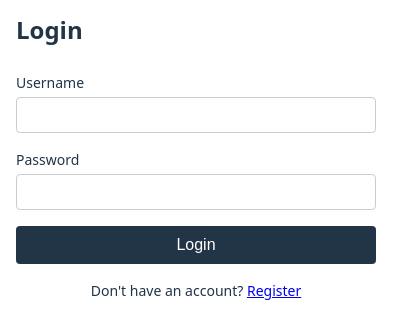
Test: loginPage › disables button while submitting
Type "alice" into the field labelled "Username".
click(196, 115); type("alice")  # box [16,97,376,133]
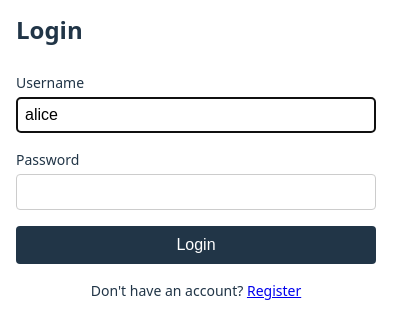
Type "password123" into the password field labelled "Password".
click(196, 192); type("password123")  # box [16,174,376,210]
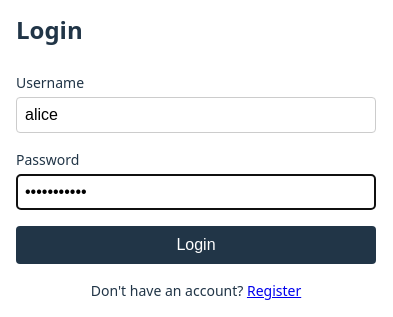
Click the button "Login".
click(196, 245)  # box [16,226,376,264]
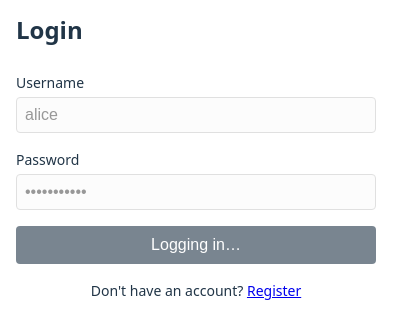
Expected: the button "Logging in…" is disabled, [16,226,376,264]
